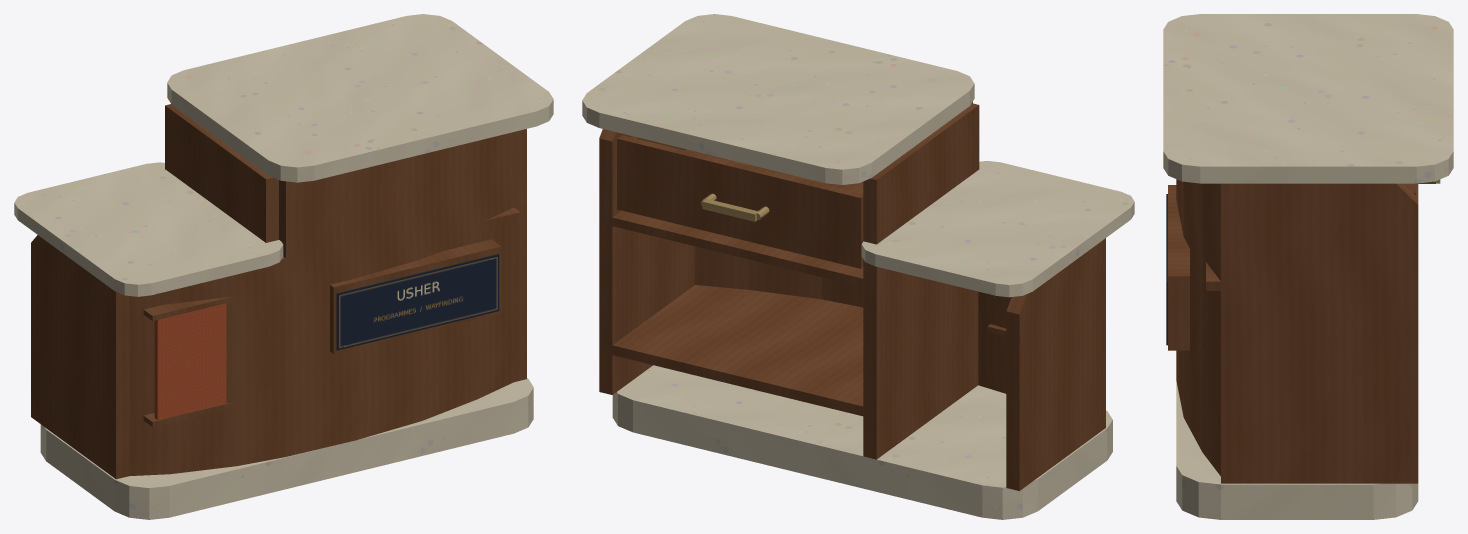
File: AST-CUL-002.glb
3 views of the same model, side by side, from view 1: azimuth 30°, elevation 25°; view 2: azimuth 150°, elevation 25°; view 3: azimuth 270°, elevation 25° (orthographic). The views are drawn at different scales.
Parts seen in each view (by area): view 1: AST-CUL-002__AST-CUL-002__warm_walnut, AST-CUL-002__AST-CUL-002__warm_stone, AST-CUL-002__AST-CUL-002__usher_original, AST-CUL-002__AST-CUL-002__auditorium_amber_velvet; view 2: AST-CUL-002__AST-CUL-002__warm_stone, AST-CUL-002__AST-CUL-002__warm_walnut, AST-CUL-002__USHER_DRAWER__warm_walnut, AST-CUL-002__USHER_DRAWER__champagne_metal; view 3: AST-CUL-002__AST-CUL-002__warm_walnut, AST-CUL-002__AST-CUL-002__warm_stone.
Part boxes in pixels (x1=…): AST-CUL-002__AST-CUL-002__warm_walnut: x1=31, y1=104, x2=526, y2=479; AST-CUL-002__AST-CUL-002__warm_stone: x1=14, y1=14, x2=553, y2=519; AST-CUL-002__AST-CUL-002__usher_original: x1=336, y1=254, x2=499, y2=350; AST-CUL-002__AST-CUL-002__auditorium_amber_velvet: x1=154, y1=303, x2=226, y2=419; AST-CUL-002__AST-CUL-002__warm_stone: x1=582, y1=14, x2=1134, y2=519; AST-CUL-002__AST-CUL-002__warm_walnut: x1=599, y1=101, x2=1105, y2=490; AST-CUL-002__USHER_DRAWER__warm_walnut: x1=617, y1=135, x2=863, y2=268; AST-CUL-002__USHER_DRAWER__champagne_metal: x1=701, y1=193, x2=769, y2=221; AST-CUL-002__AST-CUL-002__warm_walnut: x1=1168, y1=179, x2=1418, y2=483; AST-CUL-002__AST-CUL-002__warm_stone: x1=1163, y1=14, x2=1453, y2=519.
Bounding box in the file's own units: 1.51 × 1.07 × 0.78.
5 materials, 5 textured.
